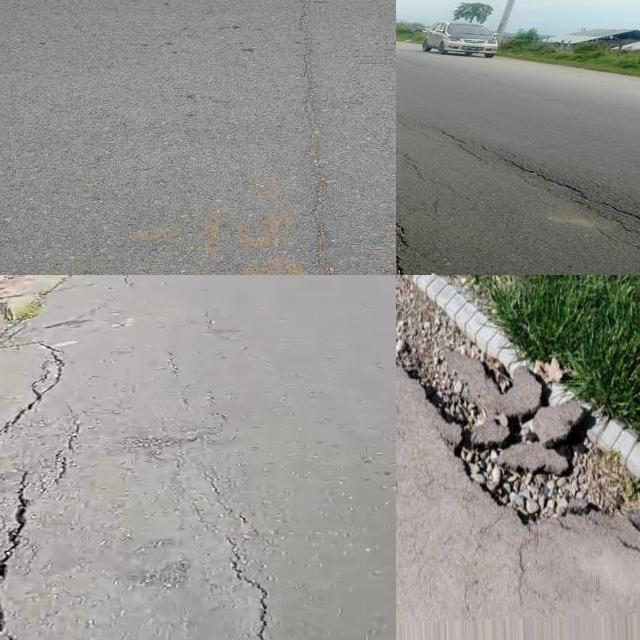Memanjang: (284, 0, 354, 275), (0, 334, 82, 466), (215, 526, 286, 640), (0, 473, 43, 640)
Pinggir: (396, 275, 640, 527)
